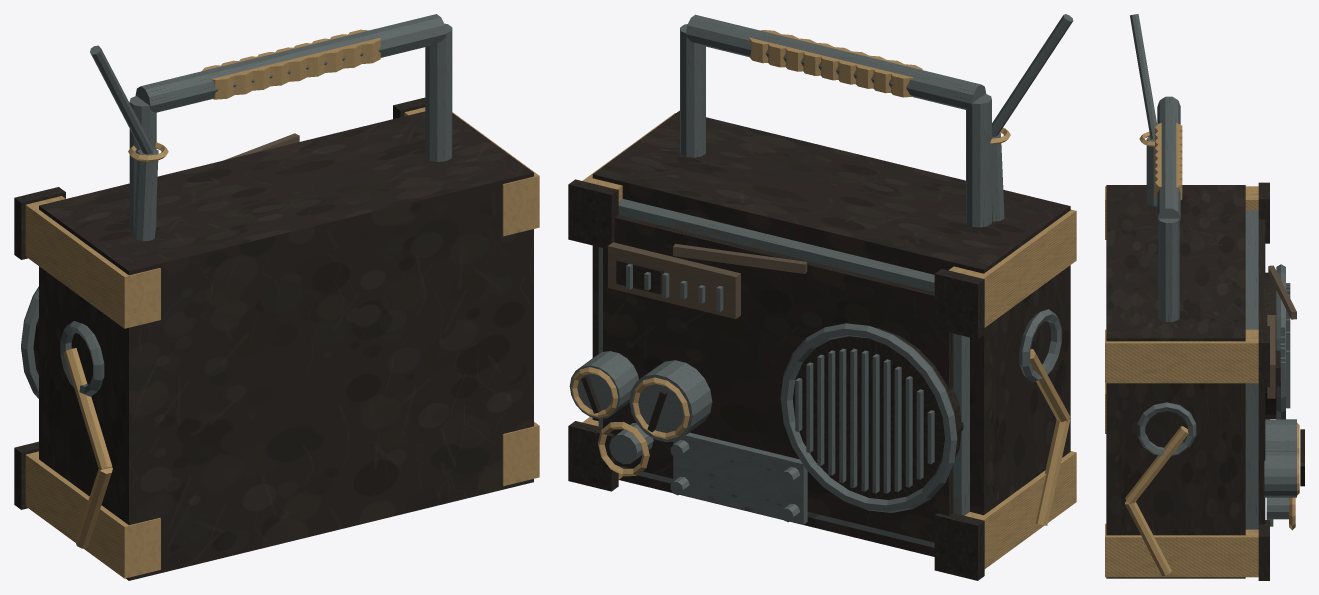
The model's file is pr-005_portable_radio__broken.obj.
3 renders of one model, left to right at view 1: azimuth 30°, elevation 25°; view 2: azimuth 150°, elevation 25°; view 3: azimuth 270°, elevation 25°, orthographic. The views are drawn at different scales.
Visible parts, largest first — view 1: pr-005_portable_radio__broken; view 2: pr-005_portable_radio__broken; view 3: pr-005_portable_radio__broken.
Part boxes in pixels (bbox=[...]): pr-005_portable_radio__broken: bbox=[14, 14, 539, 580]; pr-005_portable_radio__broken: bbox=[568, 14, 1076, 580]; pr-005_portable_radio__broken: bbox=[1105, 14, 1304, 580].
Size of the model in its own units: 0.2727 by 0.3113 by 0.1386.
4 materials, 4 textured.
